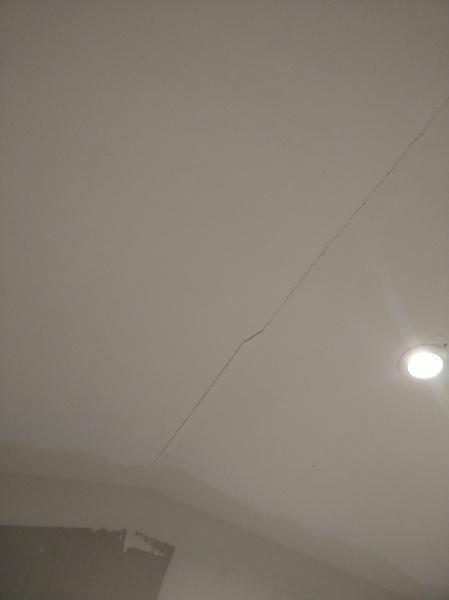crack: (154, 95, 449, 464)
